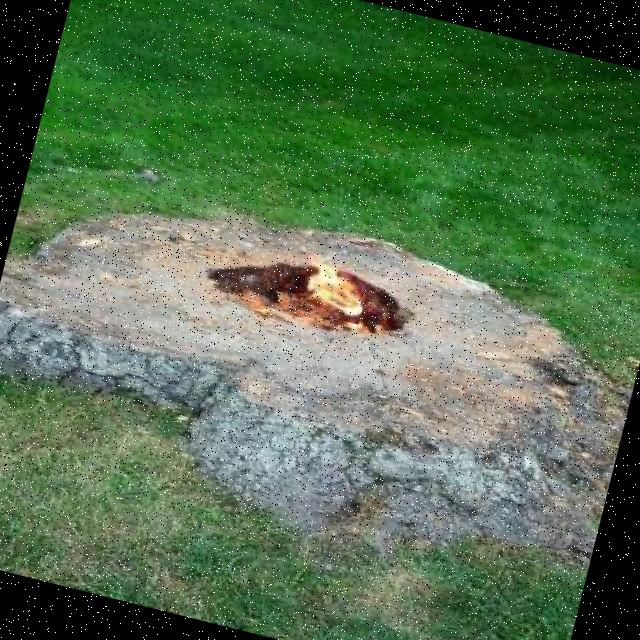fire: (279, 229, 376, 324)
